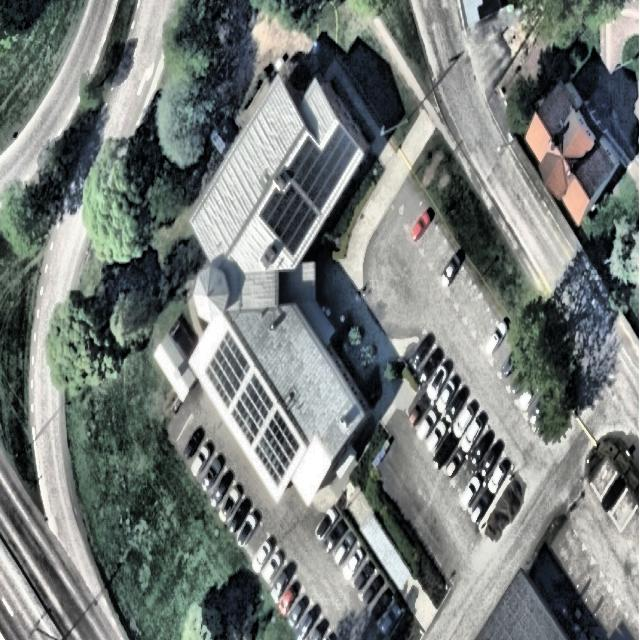roof_pv: (289, 125, 359, 210), (261, 186, 318, 259), (252, 408, 300, 490), (202, 330, 250, 411), (230, 369, 272, 447)
